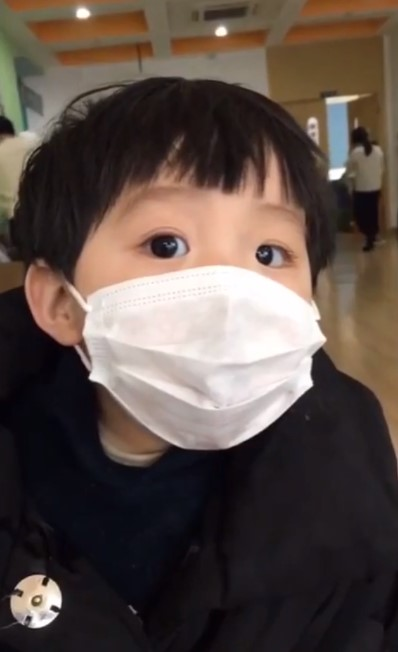face_with_mask: (25, 92, 339, 464)
